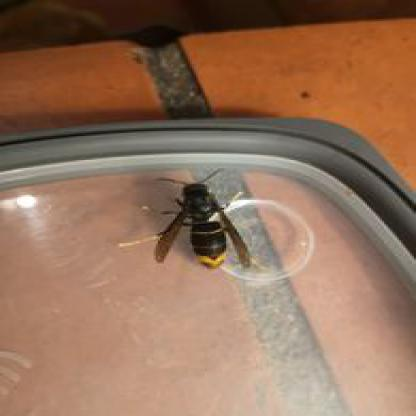Asian Hornet: (147, 171, 258, 272)
